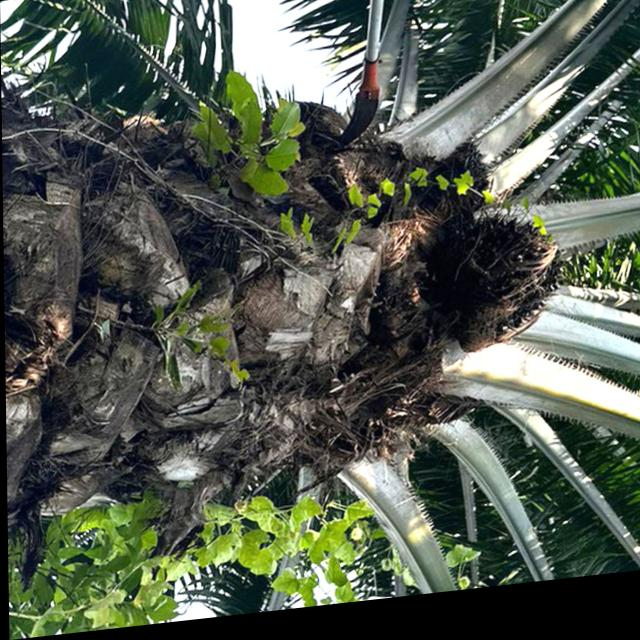unripe: (417, 201, 579, 373)
